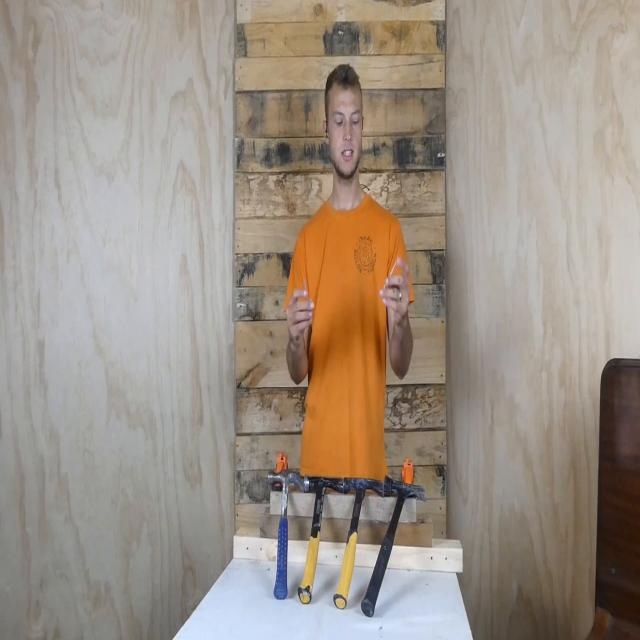hammer: (360, 481, 424, 618), (296, 474, 346, 608), (334, 477, 384, 610), (268, 471, 302, 600)
